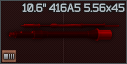HK 416A5 5.56x45 10.6 inch barrel: (0, 0, 127, 64)
